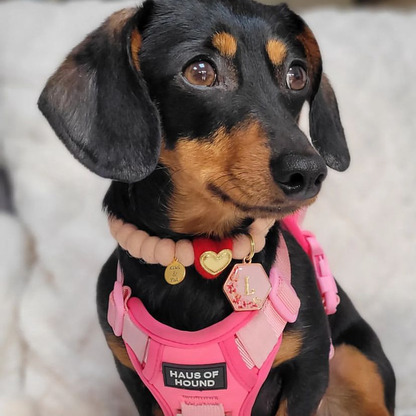dachshund: (50, 16, 384, 395)
